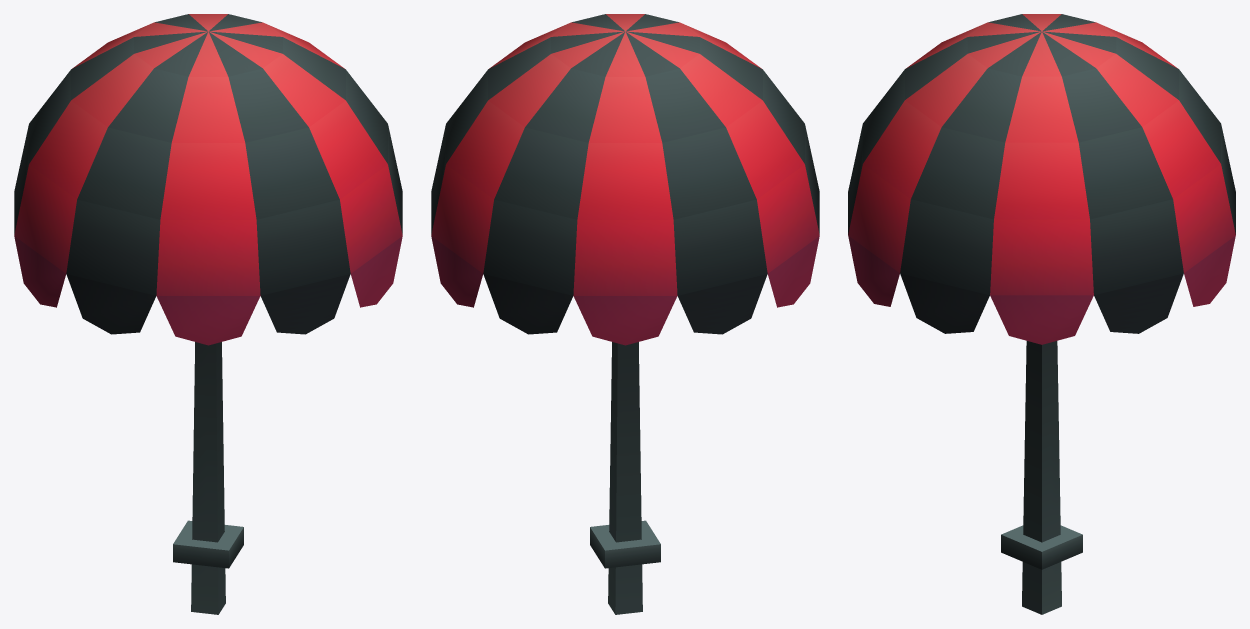
The model's file is Umbrella_1A.fbx.
3 views of the same model, side by side, from view 1: azimuth 30°, elevation 25°; view 2: azimuth 150°, elevation 25°; view 3: azimuth 270°, elevation 25° (orthographic).
Visible parts, largest first — view 1: Umbrella_1A; view 2: Umbrella_1A; view 3: Umbrella_1A.
Part boxes in pixels (x1,y1,x2,y2): Umbrella_1A: [14, 14, 402, 614]; Umbrella_1A: [431, 14, 819, 614]; Umbrella_1A: [848, 14, 1235, 614].
Size of the model in its own units: 244 by 400 by 244.
